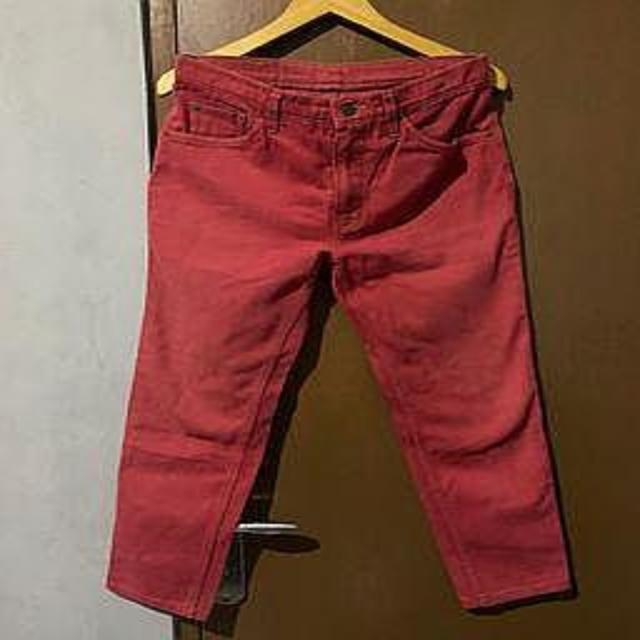TROUSER: (98, 46, 584, 623)
